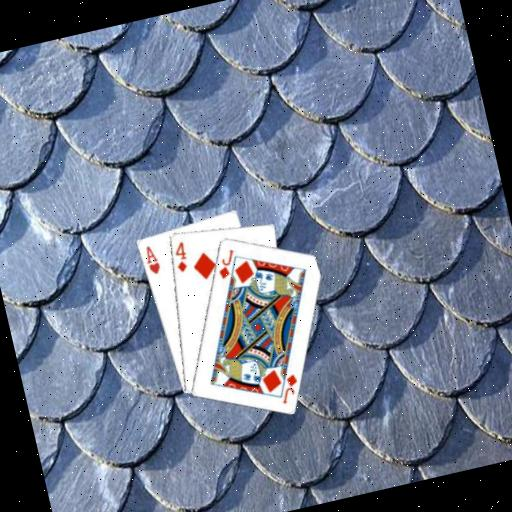4D: (168, 238, 192, 275)
AH: (140, 241, 163, 277)
JD: (211, 246, 241, 282), (274, 370, 304, 406)
